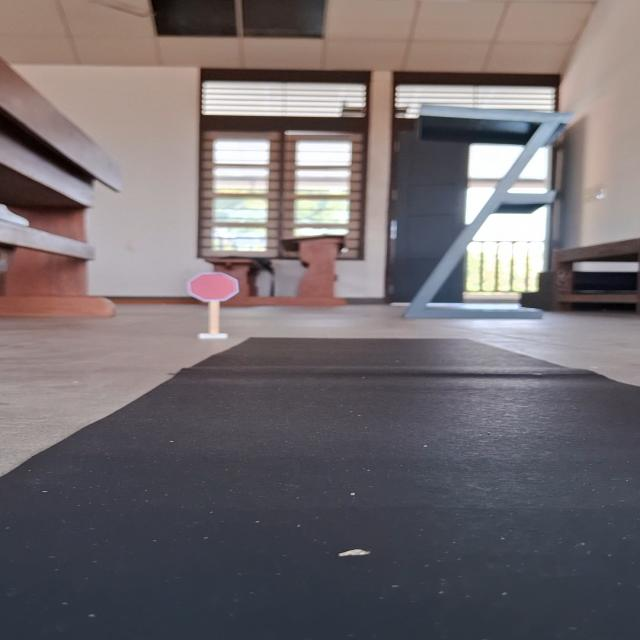Stop: (184, 271, 242, 304)
